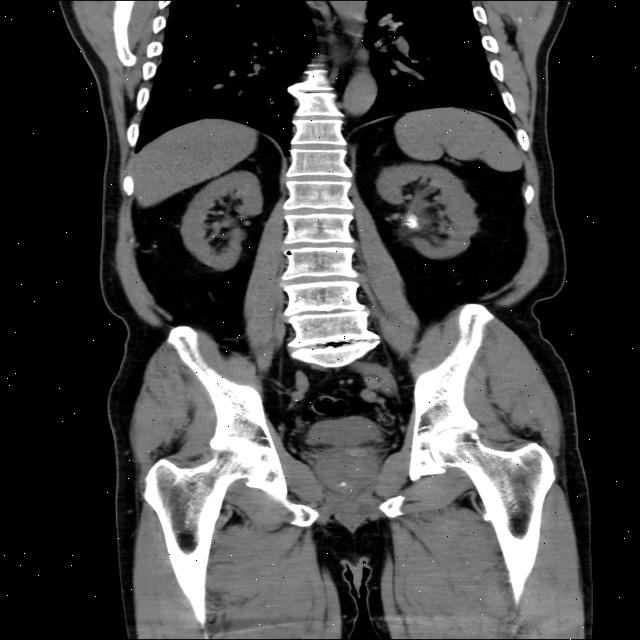kidneystone: (406, 214, 419, 229)
